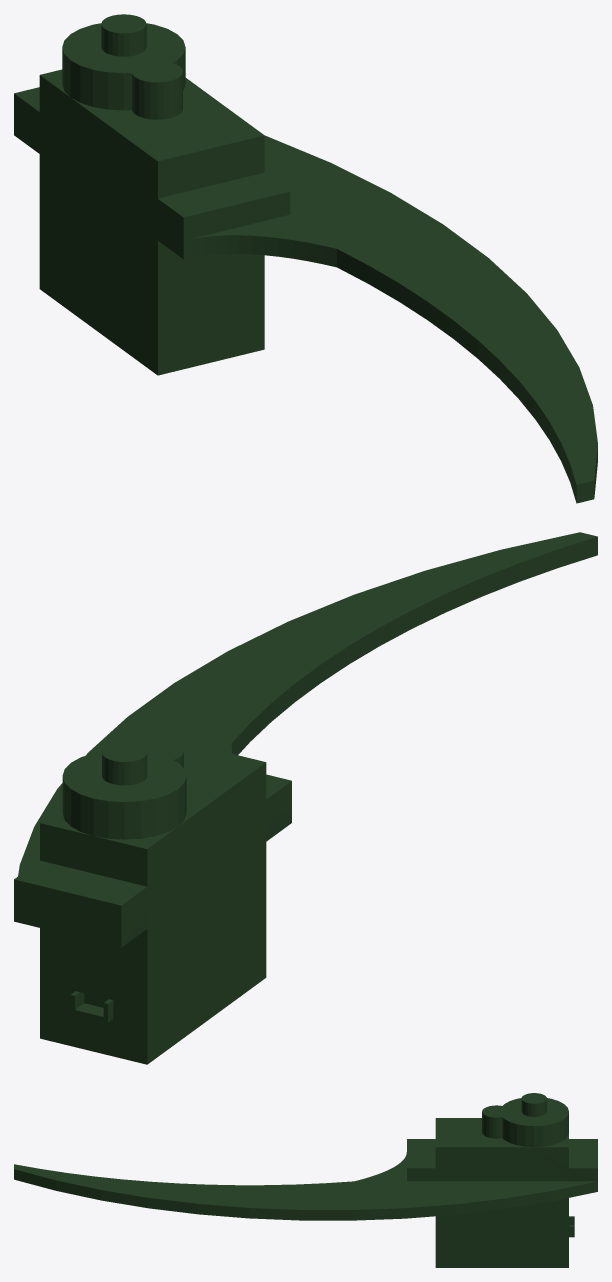
The model's file is ant_link3Leg_3_vis_1.dae.
The picture shows the model from 3 angles, top to bottom: view 1: azimuth 30°, elevation 25°; view 2: azimuth 150°, elevation 25°; view 3: azimuth 270°, elevation 25°; orthographic projection. The views are drawn at different scales.
Parts seen in each view (by area): view 1: node; view 2: node; view 3: node.
Part boxes in pixels (x1,y1,x2,y2): node: [14, 14, 597, 503]; node: [14, 532, 597, 1064]; node: [14, 1093, 597, 1267].
Bounding box in the file's own units: 0.0356 × 0.0443 × 0.1512.
